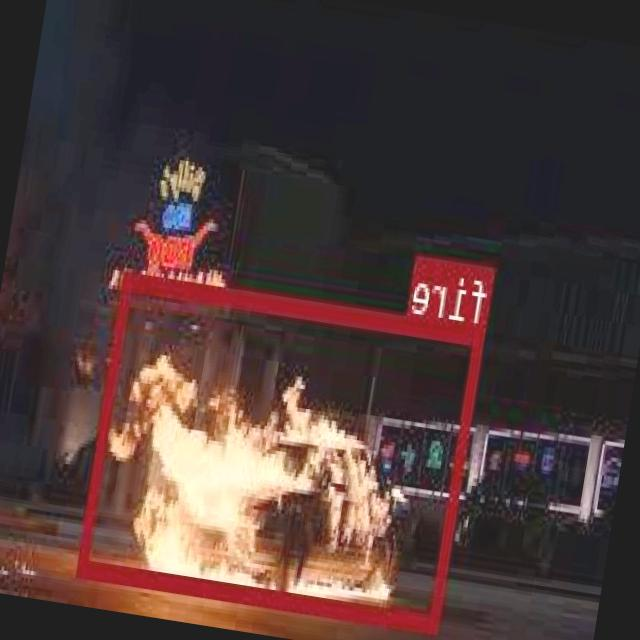fire: (79, 270, 488, 632)
